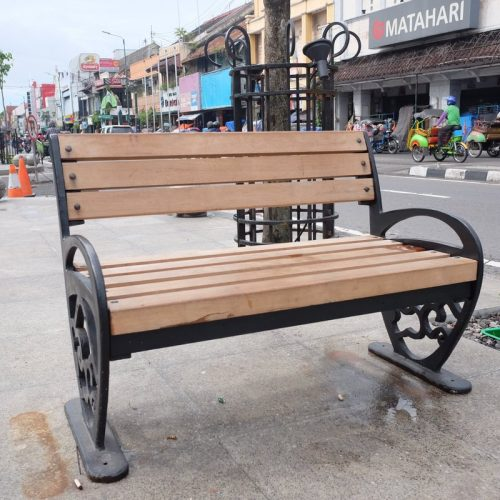bench: (44, 130, 488, 487)
